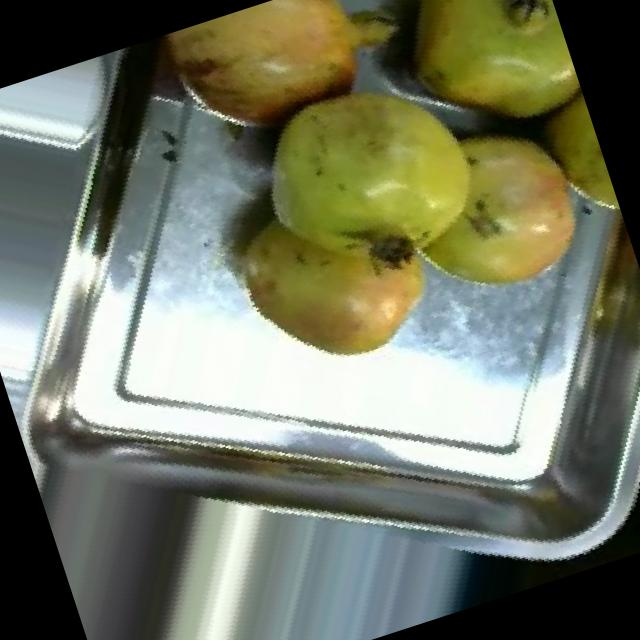fruit: (216, 19, 533, 324), (202, 158, 476, 416), (124, 0, 426, 191), (348, 0, 594, 187)
